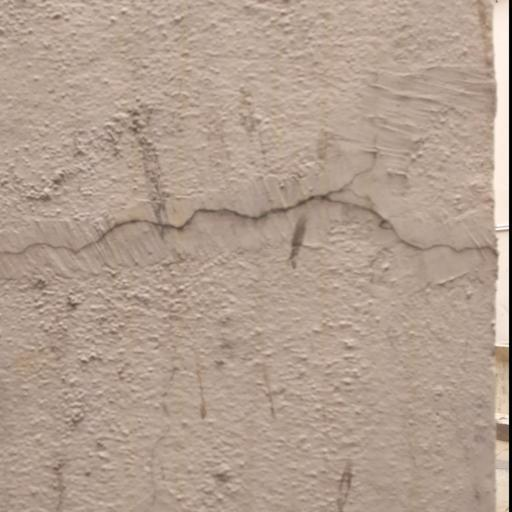minor_crack: (0, 134, 493, 299)
